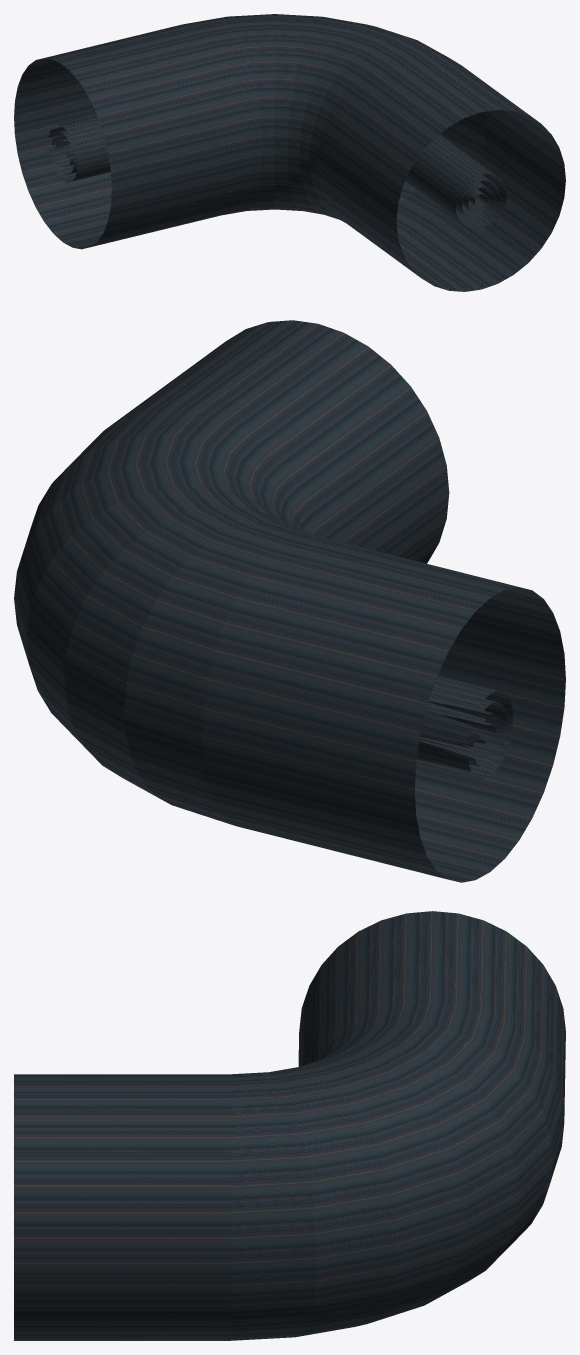
The model's file is Small Dark Energy Pipe window 2.obj.
3 views of the same model, one above another, from view 1: azimuth 30°, elevation 25°; view 2: azimuth 150°, elevation 25°; view 3: azimuth 270°, elevation 25° (orthographic). The views are drawn at different scales.
Visible parts, largest first — view 1: Cylinder.001_Cylinder.001_Cylinder.001_Cylinder.015; view 2: Cylinder.001_Cylinder.001_Cylinder.001_Cylinder.015; view 3: Cylinder.001_Cylinder.001_Cylinder.001_Cylinder.015.
Boxes of the visible parts, box(x1,y1,x2,y2) form: Cylinder.001_Cylinder.001_Cylinder.001_Cylinder.015: box(14, 14, 565, 291); Cylinder.001_Cylinder.001_Cylinder.001_Cylinder.015: box(14, 320, 565, 882); Cylinder.001_Cylinder.001_Cylinder.001_Cylinder.015: box(14, 911, 565, 1340).
Size of the model in its own units: 0.66 by 0.3209 by 0.662.
